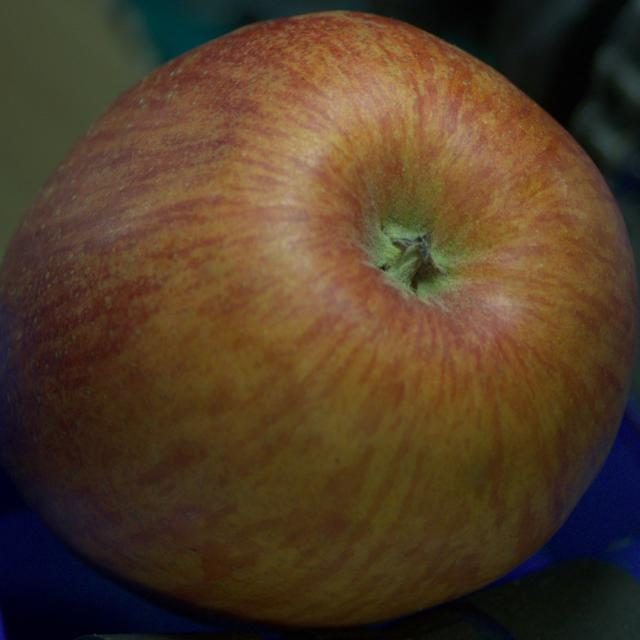apple: (0, 12, 639, 627)
